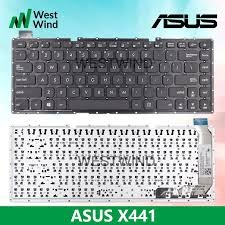keyboard: (9, 34, 216, 115)
